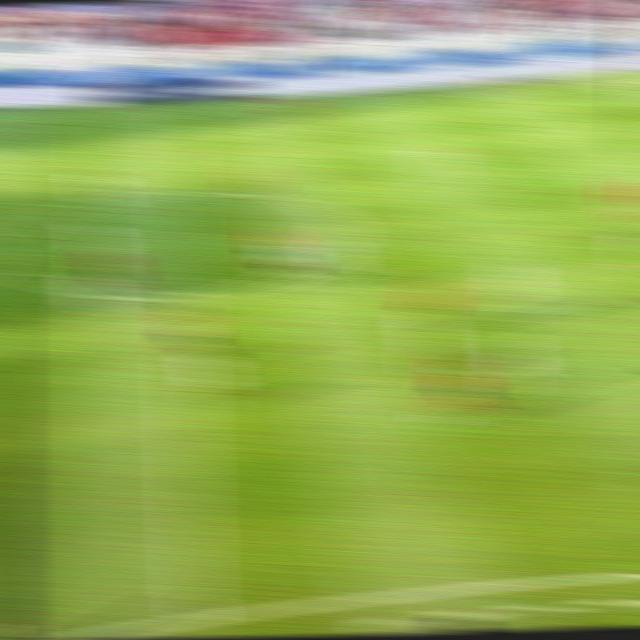halfcircle_bottom: (156, 277, 206, 314)
halfcircle_top: (154, 180, 200, 205)
midline_bottom_intersection: (165, 595, 223, 637)
midline_top_intersection: (155, 102, 194, 123)
